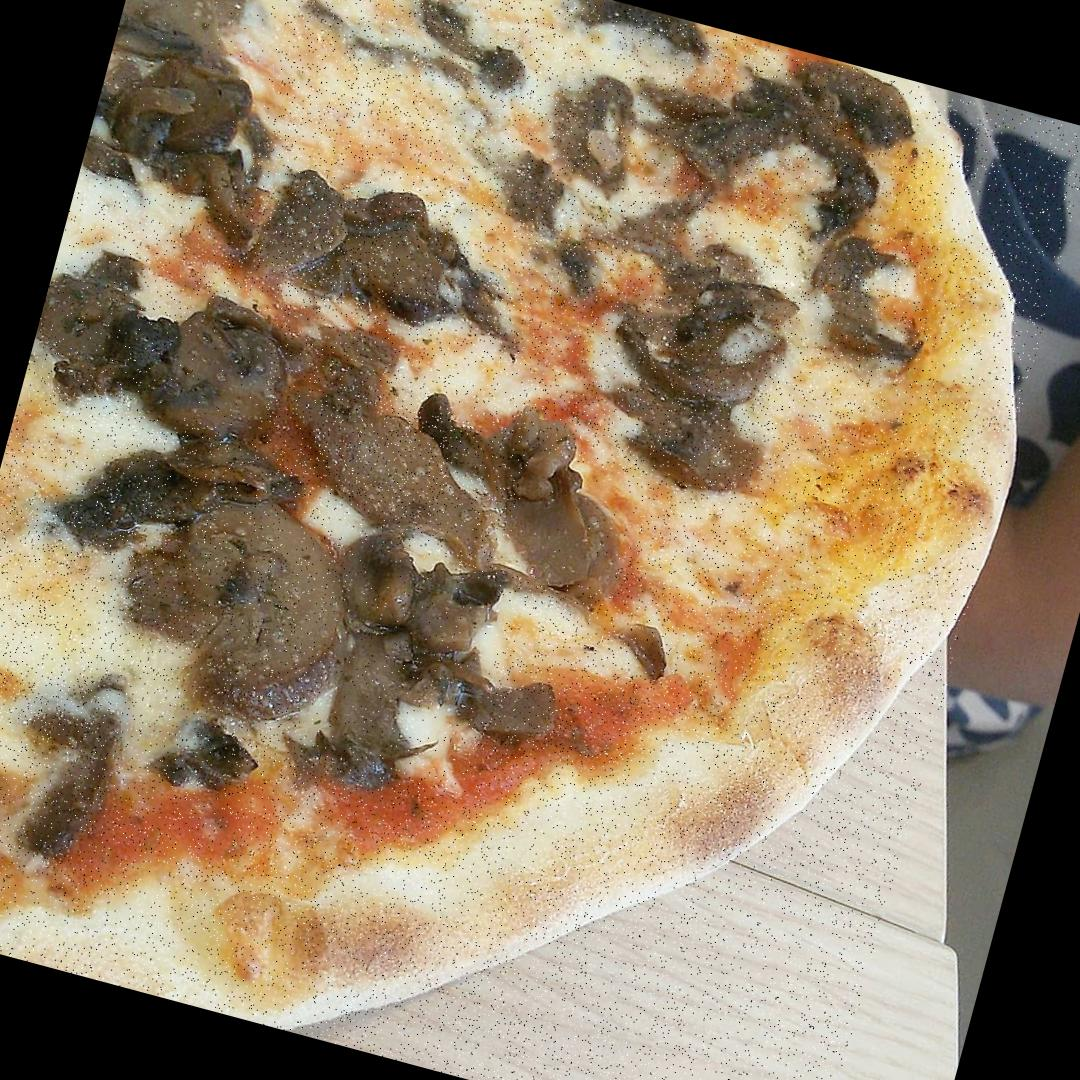Cheese: (272, 0, 583, 210), (0, 500, 160, 748)
Ham: (306, 540, 518, 784), (646, 28, 902, 228), (153, 488, 356, 706), (84, 0, 299, 197), (246, 163, 480, 340), (280, 378, 470, 528), (623, 291, 800, 444), (151, 292, 286, 437), (503, 451, 639, 594), (35, 257, 151, 384)
Pizza: (0, 0, 1080, 1080)
